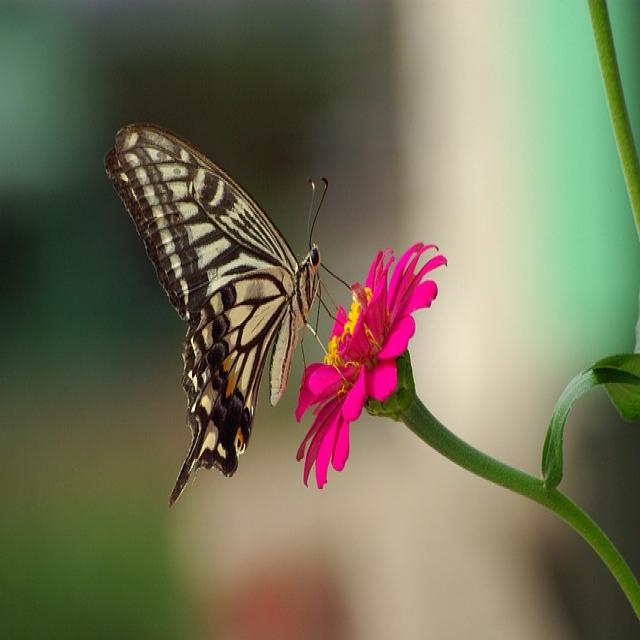butterfly: (104, 123, 322, 504)
